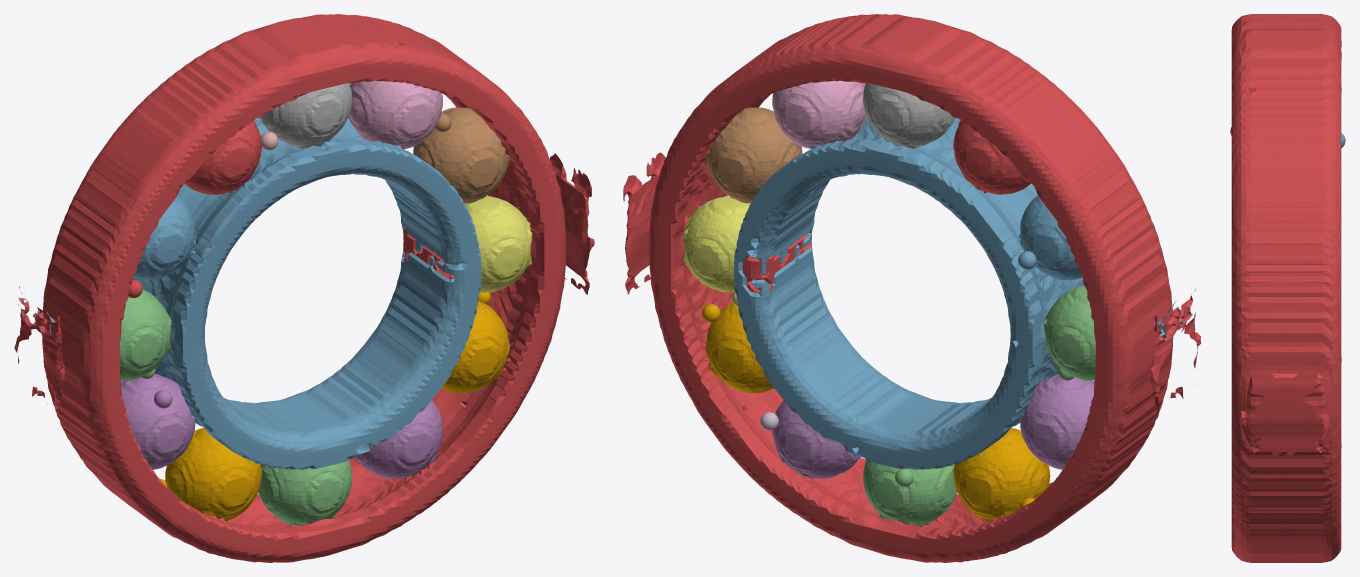
The model's file is ours.glb.
The picture shows the model from 3 angles, left to right: view 1: azimuth 30°, elevation 25°; view 2: azimuth 150°, elevation 25°; view 3: azimuth 270°, elevation 25°; orthographic projection.
Visible parts, largest first — view 1: g0, g1, g13, g6, g7, g12, g2, g5, g8, g11, g4, g3 (+2 smaller); view 2: g0, g1, g13, g6, g7, g12, g2, g5, g8, g11, g3, g4 (+2 smaller); view 3: g0.
Part boxes in pixels (box(x1,y1,x2,y2)): g0: box(14, 14, 594, 562); g1: box(20, 117, 481, 469); g13: box(160, 428, 261, 521); g6: box(413, 107, 510, 203); g7: box(348, 80, 442, 149); g12: box(121, 374, 195, 469); g2: box(258, 460, 352, 525); g5: box(464, 196, 532, 292); g8: box(260, 83, 352, 148); g11: box(119, 289, 171, 380); g4: box(441, 292, 509, 393); g3: box(355, 400, 442, 478); g0: box(623, 14, 1201, 562); g1: box(734, 117, 1182, 469); g13: box(953, 428, 1050, 521); g6: box(705, 107, 802, 203); g7: box(772, 80, 866, 149); g12: box(1020, 374, 1094, 469); g2: box(863, 460, 957, 526); g5: box(683, 196, 750, 306); g8: box(863, 83, 954, 148); g11: box(1044, 285, 1095, 380); g3: box(760, 400, 860, 478); g4: box(702, 302, 774, 393); g0: box(1230, 14, 1341, 562).
Size of the model in its own units: 2.1 by 1.9 by 0.3997.
